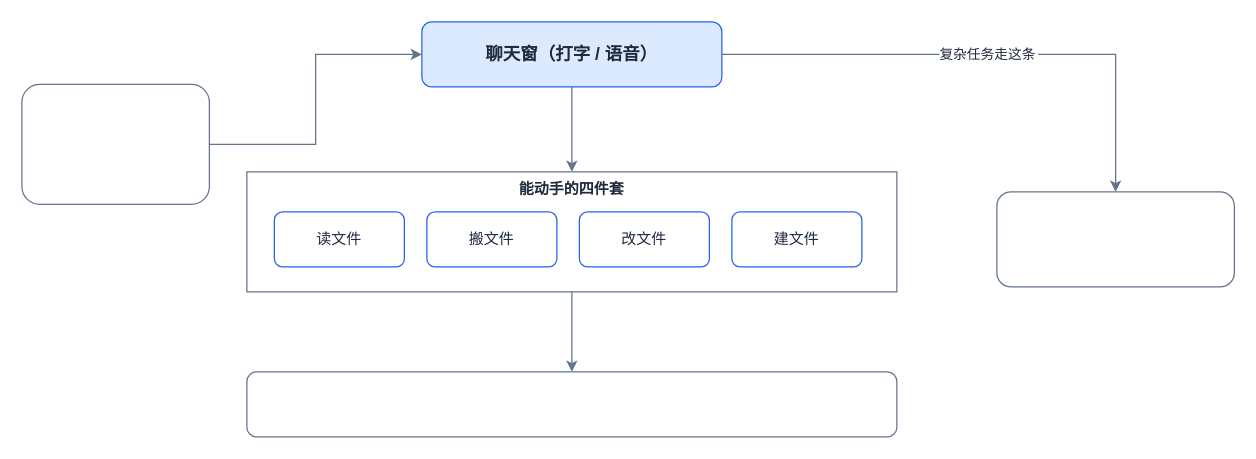
This 1256x459 diagram has some shape labels left out. The shapes that lost their labels are listed below. From the top down, each one's centre as x and y in pixels, then its label:
(x=115, y=143): 左侧边栏 技能：预设任务模板 自动化工作流：固定流程重复触发
(x=1115, y=239): Plan 模式：先出执行清单 不确定就停下来提问，确认后再执行
(x=571, y=404): 交出去的活：整理文件夹 / 表格汇总成 Excel / 经营仪表盘 / 例行日报
